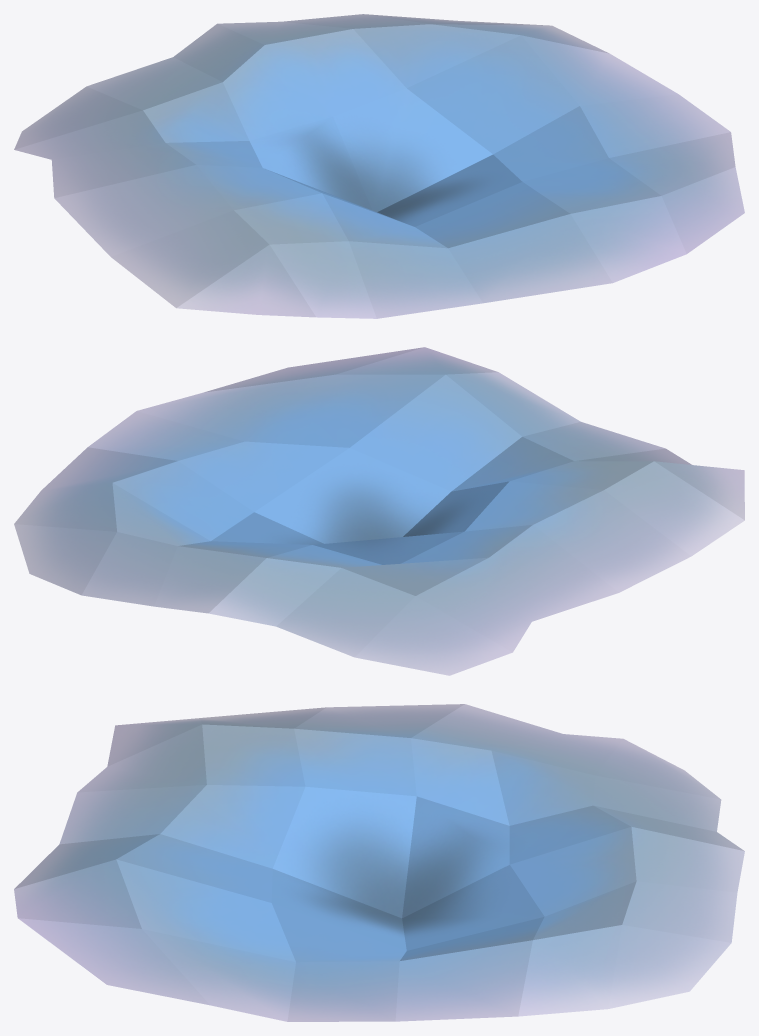
File: TableCoral03.fbx
The picture shows the model from 3 angles, top to bottom: view 1: azimuth 30°, elevation 25°; view 2: azimuth 150°, elevation 25°; view 3: azimuth 270°, elevation 25°; orthographic projection. The views are drawn at different scales.
Visible parts, largest first — view 1: FoliosCoral02:pPlane1; view 2: FoliosCoral02:pPlane1; view 3: FoliosCoral02:pPlane1.
Boxes of the visible parts, x1,y1,x2,y2 form: FoliosCoral02:pPlane1: [14, 14, 744, 318]; FoliosCoral02:pPlane1: [14, 347, 744, 675]; FoliosCoral02:pPlane1: [14, 704, 744, 1021].
Size of the model in its own units: 13.87 by 1.94 by 13.99.
Materials: 1 (1 with a texture image).
